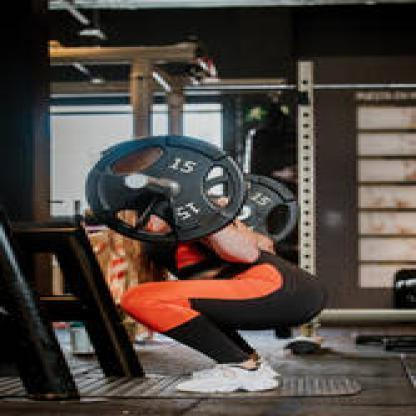barbell: (87, 133, 298, 247)
